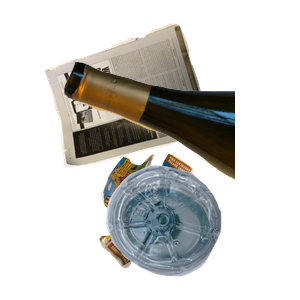glass: (60, 59, 300, 231)
paper: (42, 21, 249, 181)
plastic: (104, 163, 300, 300)
trash: (97, 151, 283, 300)
